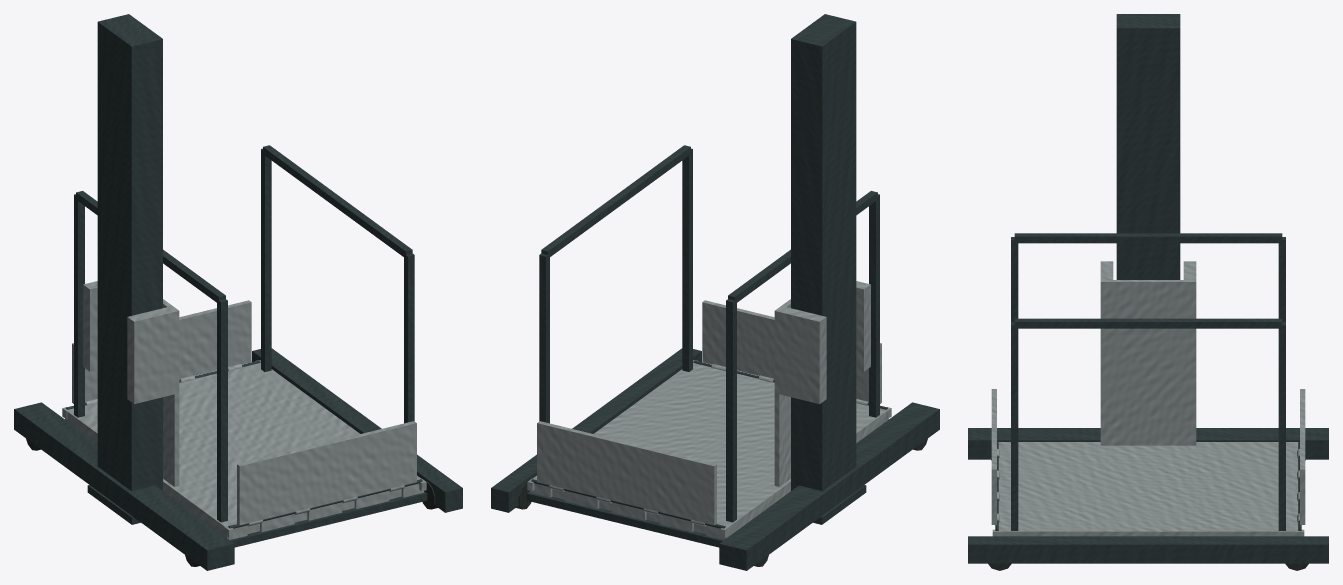
3 views of the same model, side by side, from view 1: azimuth 30°, elevation 25°; view 2: azimuth 150°, elevation 25°; view 3: azimuth 270°, elevation 25° (orthographic). The views are drawn at different scales.
Visible parts, largest first — view 1: B024-04_support_iron, B024-04_moving_lift_steel, B024-04_base_iron, B024-04_moving_lift_iron, B024-04_moving_flap-1_steel, B024-04_moving_flap1_steel; view 2: B024-04_support_iron, B024-04_moving_lift_steel, B024-04_base_iron, B024-04_moving_lift_iron, B024-04_moving_flap1_steel, B024-04_moving_flap-1_steel; view 3: B024-04_moving_lift_steel, B024-04_support_iron, B024-04_base_iron, B024-04_moving_lift_iron, B024-04_moving_flap-1_steel, B024-04_moving_flap1_steel.
Boxes of the visible parts, x1=… form: B024-04_support_iron: x1=97, y1=14, x2=162, y2=491; B024-04_moving_lift_steel: x1=62, y1=281, x2=426, y2=539; B024-04_base_iron: x1=14, y1=348, x2=462, y2=570; B024-04_moving_lift_iron: x1=66, y1=145, x2=422, y2=528; B024-04_moving_flap-1_steel: x1=237, y1=421, x2=416, y2=526; B024-04_moving_flap1_steel: x1=72, y1=300, x2=251, y2=405; B024-04_support_iron: x1=791, y1=14, x2=856, y2=491; B024-04_moving_lift_steel: x1=527, y1=281, x2=891, y2=539; B024-04_base_iron: x1=491, y1=348, x2=939, y2=570; B024-04_moving_lift_iron: x1=531, y1=145, x2=887, y2=528; B024-04_moving_flap1_steel: x1=537, y1=421, x2=716, y2=526; B024-04_moving_flap-1_steel: x1=702, y1=300, x2=881, y2=405; B024-04_moving_lift_steel: x1=992, y1=261, x2=1304, y2=536; B024-04_support_iron: x1=1116, y1=14, x2=1180, y2=279; B024-04_base_iron: x1=968, y1=428, x2=1328, y2=563; B024-04_moving_lift_iron: x1=995, y1=233, x2=1301, y2=530; B024-04_moving_flap-1_steel: x1=991, y1=389, x2=999, y2=525; B024-04_moving_flap1_steel: x1=1297, y1=389, x2=1305, y2=525.
Size of the model in its own units: 1.31 by 2.3 by 1.7.
3 materials, 3 textured.
